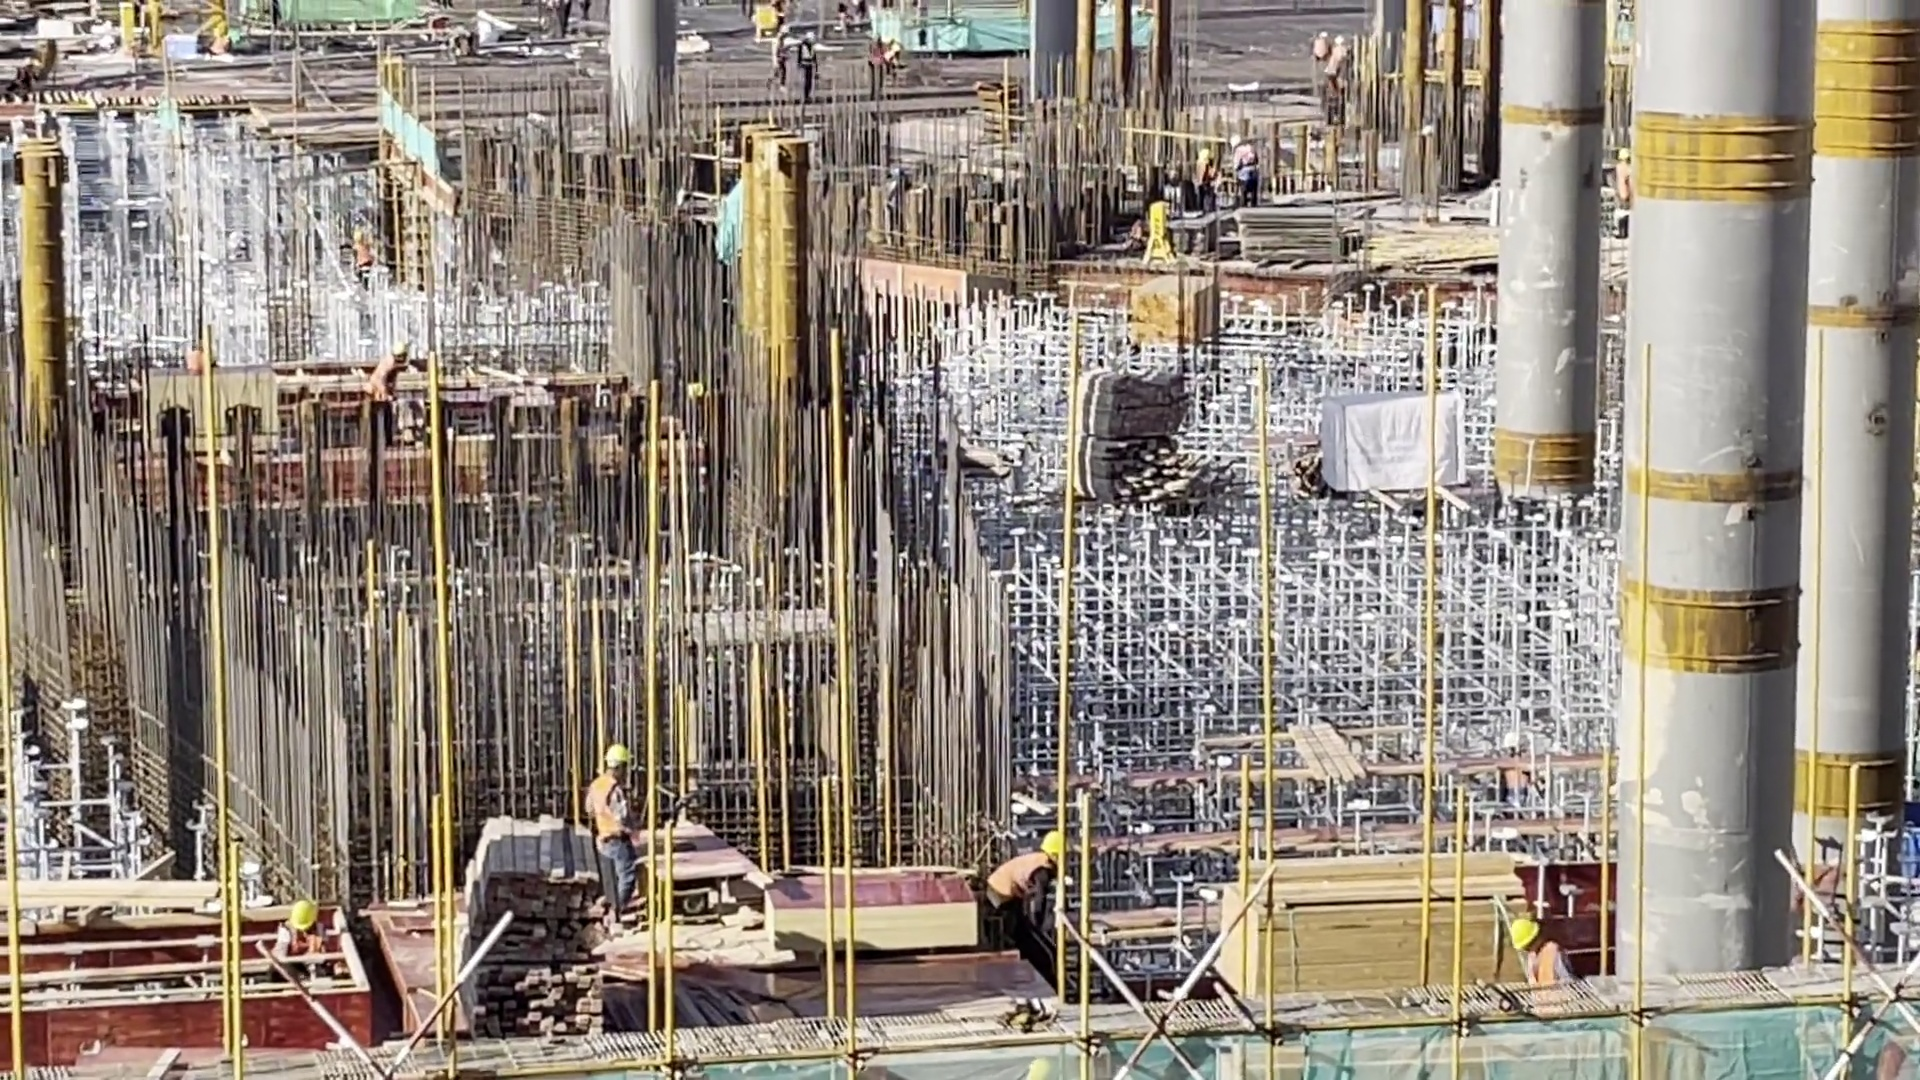helmet: (1504, 911, 1552, 953), (278, 897, 330, 935), (593, 735, 633, 775), (1041, 824, 1067, 869)
person: (975, 808, 1085, 982), (569, 741, 660, 934), (1486, 900, 1593, 999), (256, 900, 364, 995)
vest: (986, 850, 1056, 909), (581, 765, 628, 843), (1521, 943, 1566, 994)
